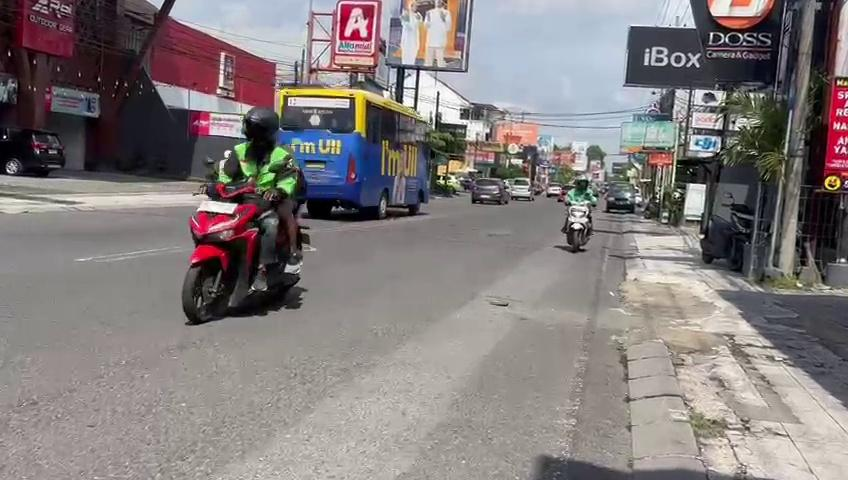helm: (235, 102, 283, 152)
riding: (169, 99, 321, 327)
